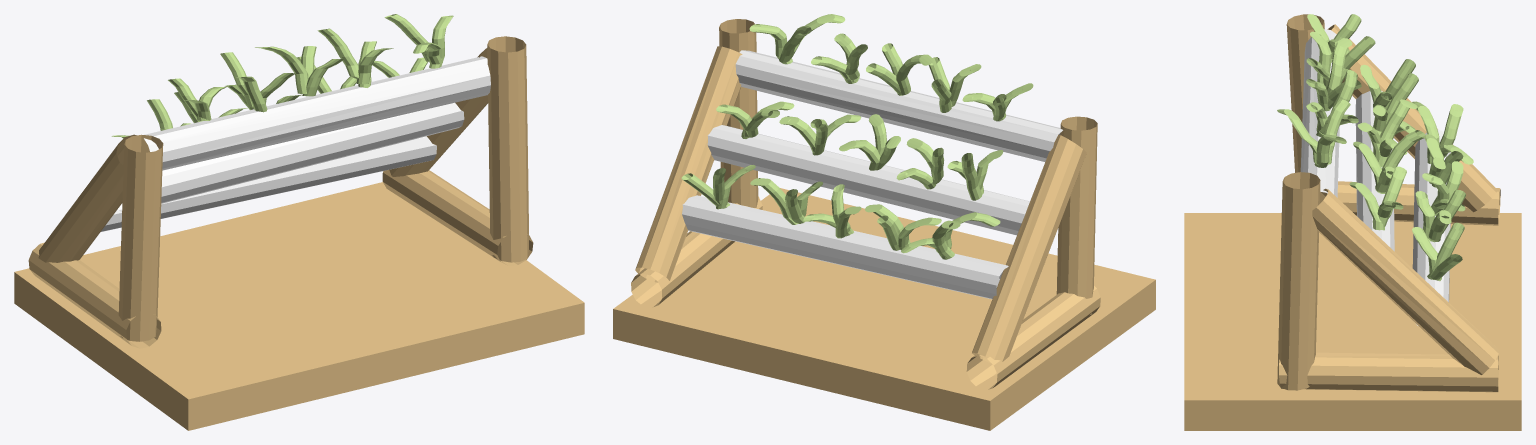
3 renders of one model, left to right at view 1: azimuth 30°, elevation 25°; view 2: azimuth 150°, elevation 25°; view 3: azimuth 270°, elevation 25°, orthographic. The views are drawn at different scales.
Visible parts, largest first — view 1: Object_4, Object_2, Object_3; view 2: Object_4, Object_2, Object_3; view 3: Object_4, Object_3, Object_2.
Boxes of the visible parts, x1,y1,x2,y2 form: Object_4: (14, 36, 584, 430); Object_2: (101, 56, 490, 231); Object_3: (111, 14, 453, 138); Object_4: (613, 19, 1155, 430); Object_2: (682, 50, 1062, 299); Object_3: (681, 14, 1033, 259); Object_4: (1184, 14, 1521, 430); Object_3: (1277, 14, 1473, 281); Object_2: (1300, 29, 1450, 325).
Size of the model in its own units: 1.06 by 0.7279 by 0.8002.
